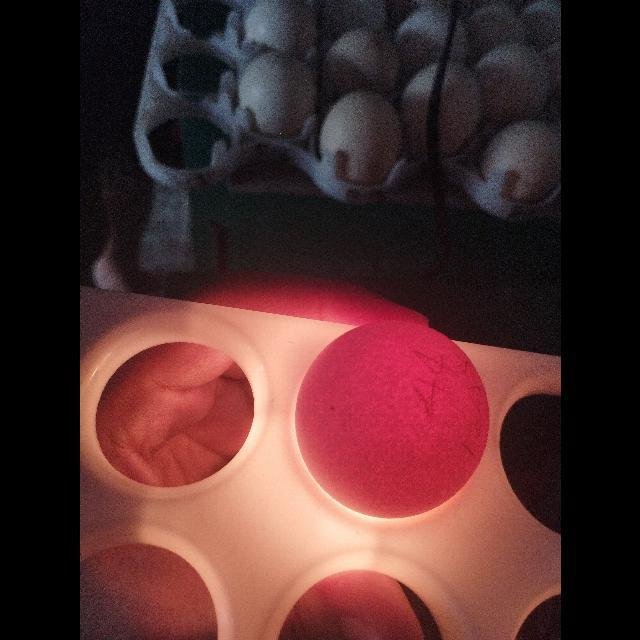Infertile: (292, 318, 494, 524)
